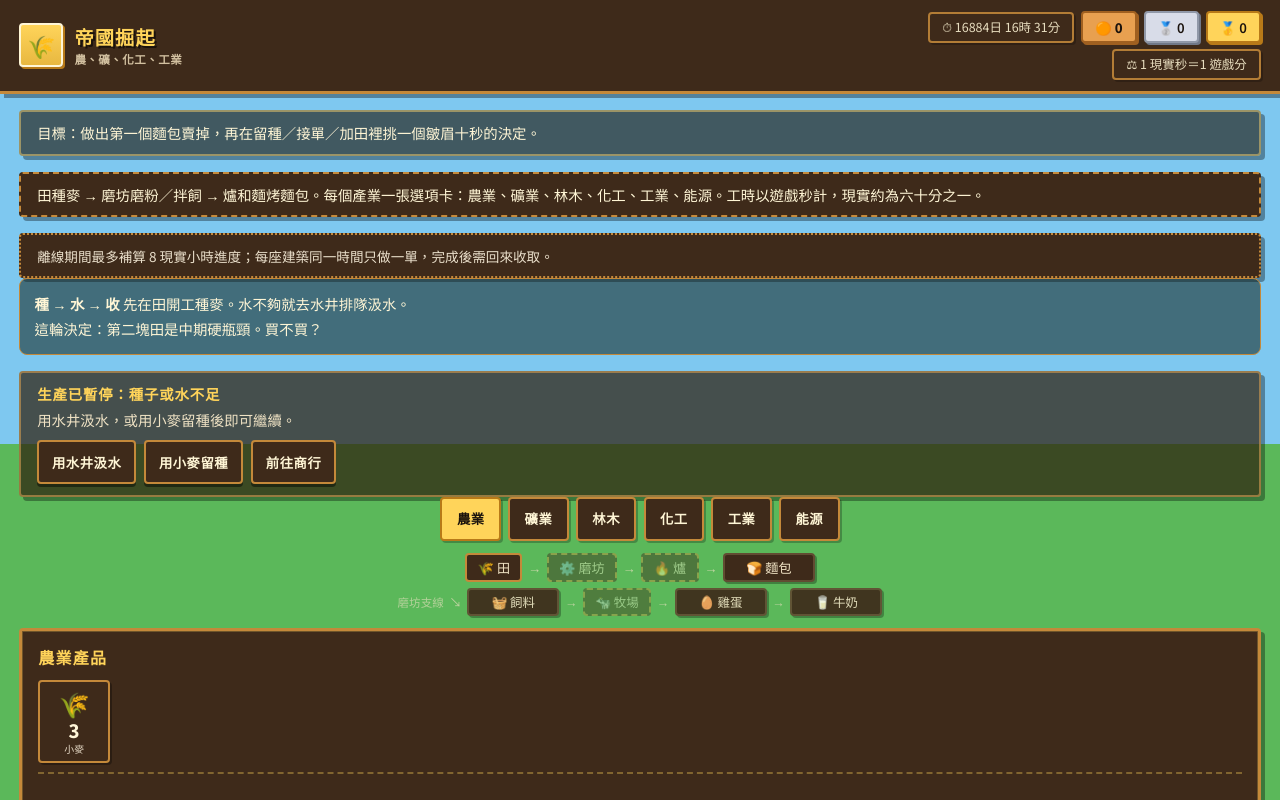
Scenario: industry tabs › gives each industry its own tab and hides the others
This screenshot has width=1280, height=800.
Expected: the tab "農業" is shown, [440,497,501,541]
Expected: the tab "林木" is shown, [576,497,636,541]
Click the tab "礦業".
click(538, 519)  # box [508,497,569,541]
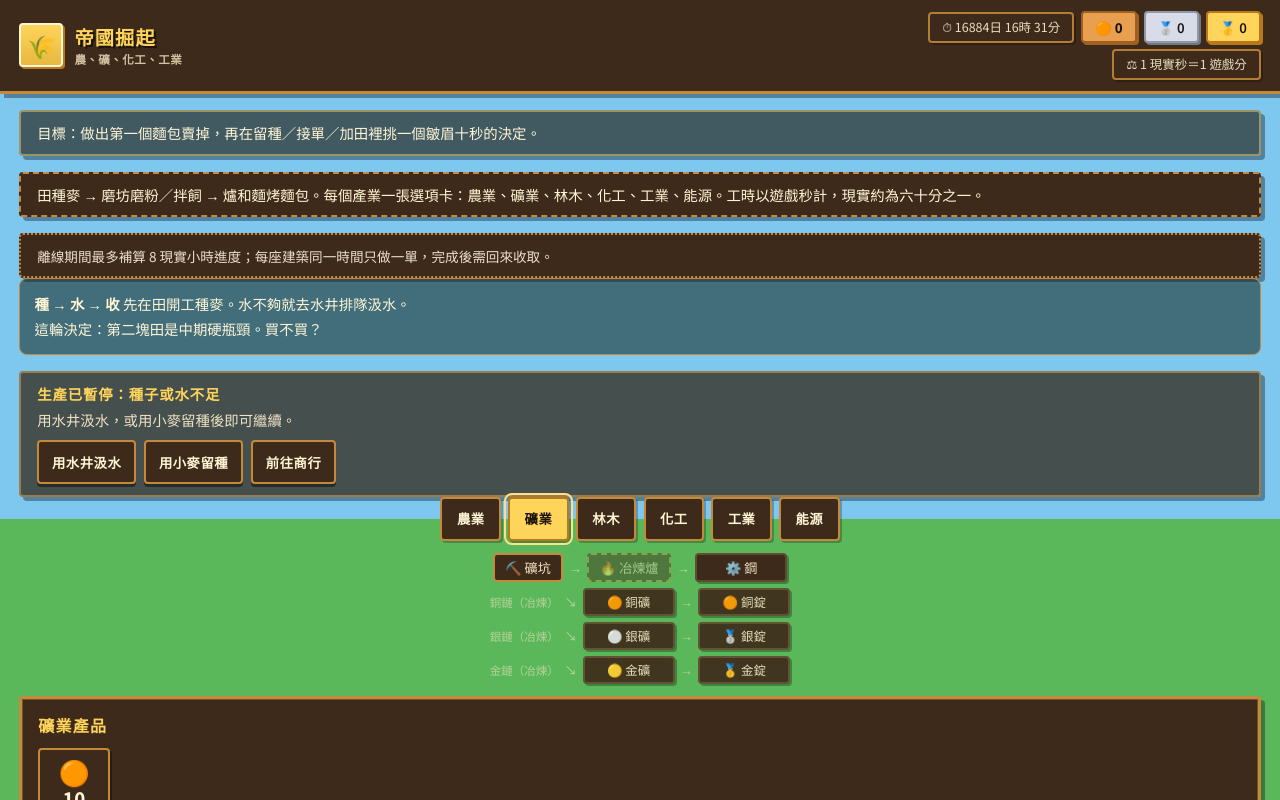
Result: the heading "礦業產品" is shown at [38,717,107,736]
Result: the heading "田" is gone
Result: the text "鋼" is shown at [744,558,757,577]
Click the tab "林木".
click(606, 519)  # box [576,497,636,541]
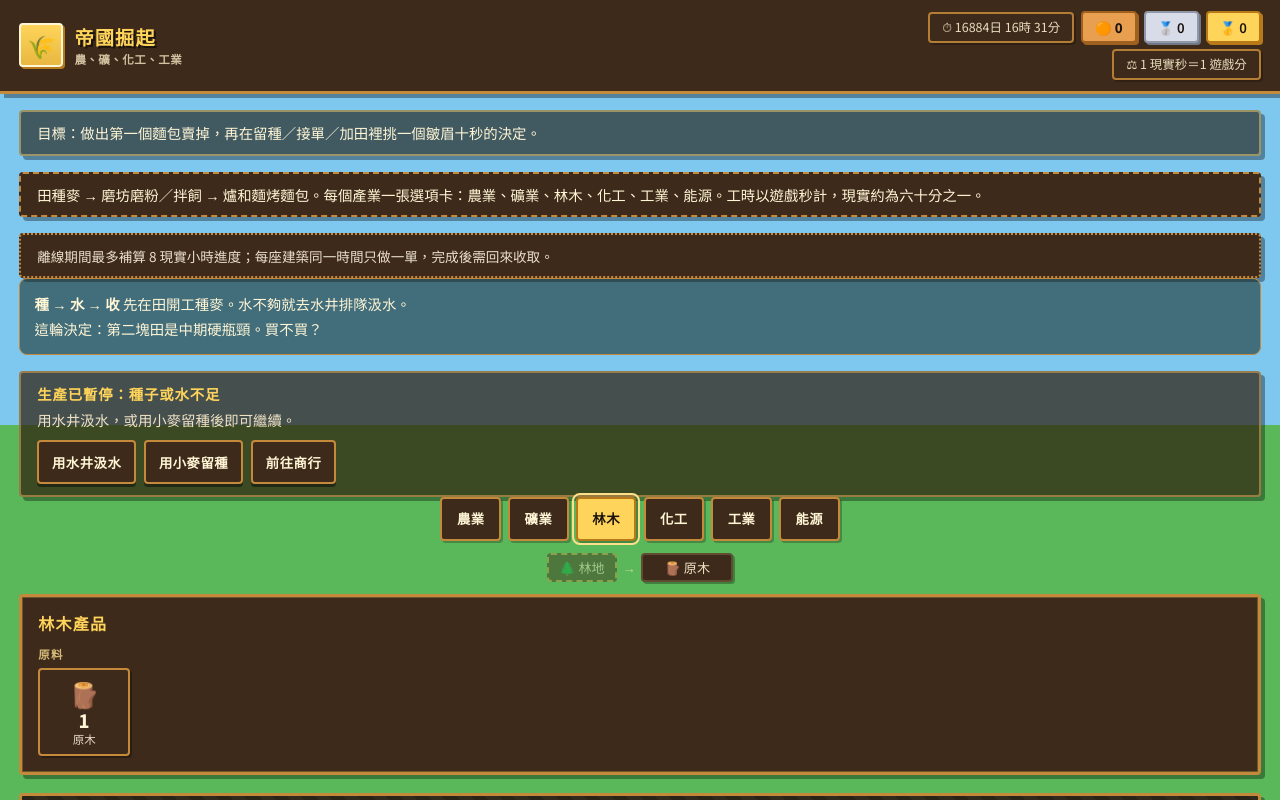
Expected: the heading "田" is not shown
Result: the heading "礦坑" is gone
Result: the element named "原木 1" is shown at [38,668,130,756]
Click the tab "化工".
click(674, 519)  # box [644,497,704,541]
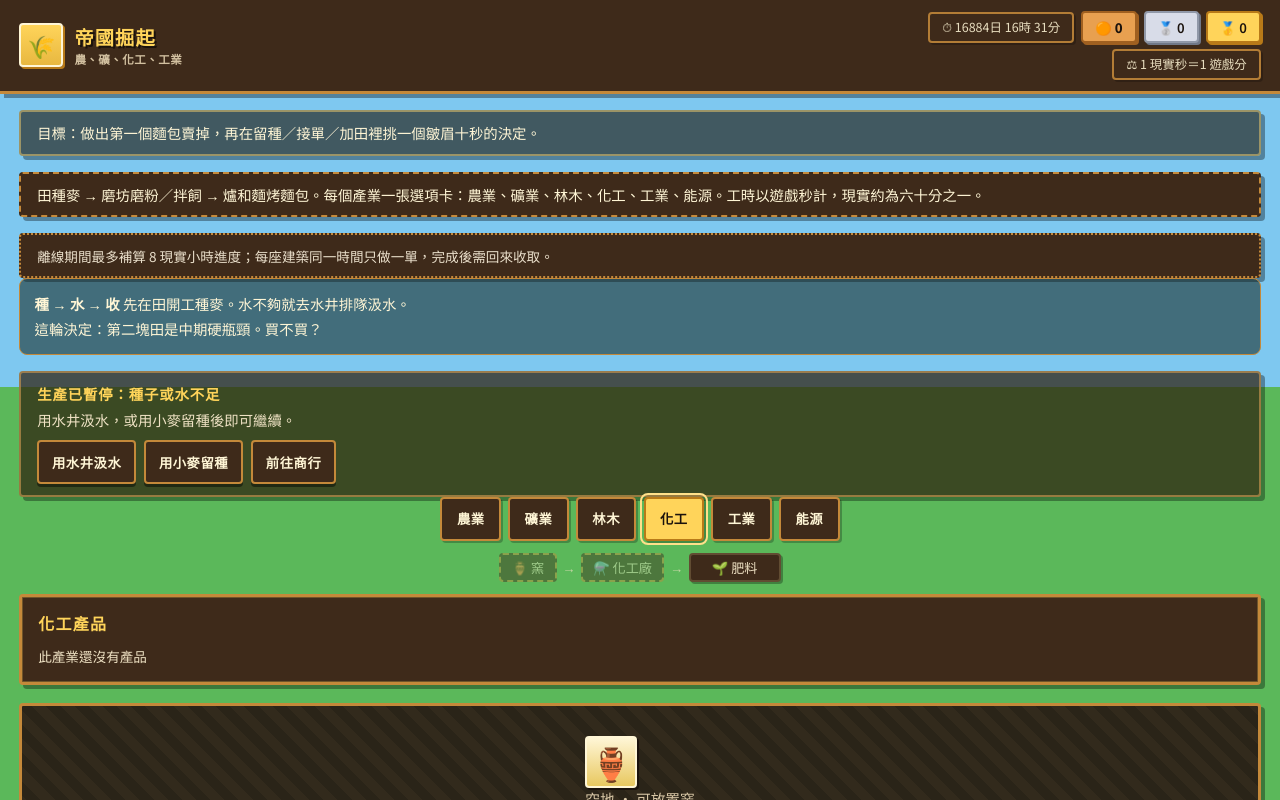
Result: the button "放置林地" is gone
Result: the text "此產業還沒有產品" is shown at [38,646,147,666]
Click the tab "工業".
click(742, 519)  # box [711,497,772,541]
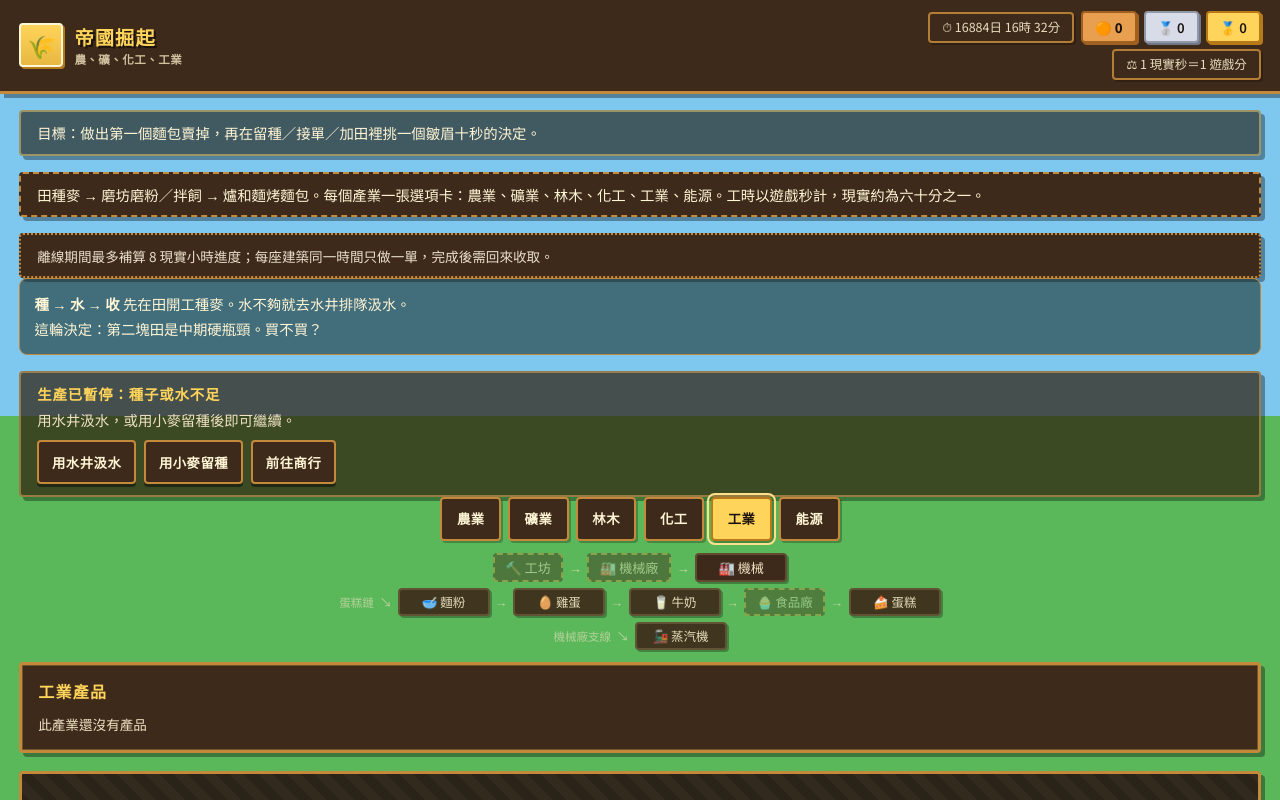
Expected: the text "蒸汽" is not shown
Result: the text "放置窯" is gone
Result: the text "蒸汽機" is shown at [671,627,708,645]
Click the tab "能源".
click(809, 519)  # box [779,497,840,541]
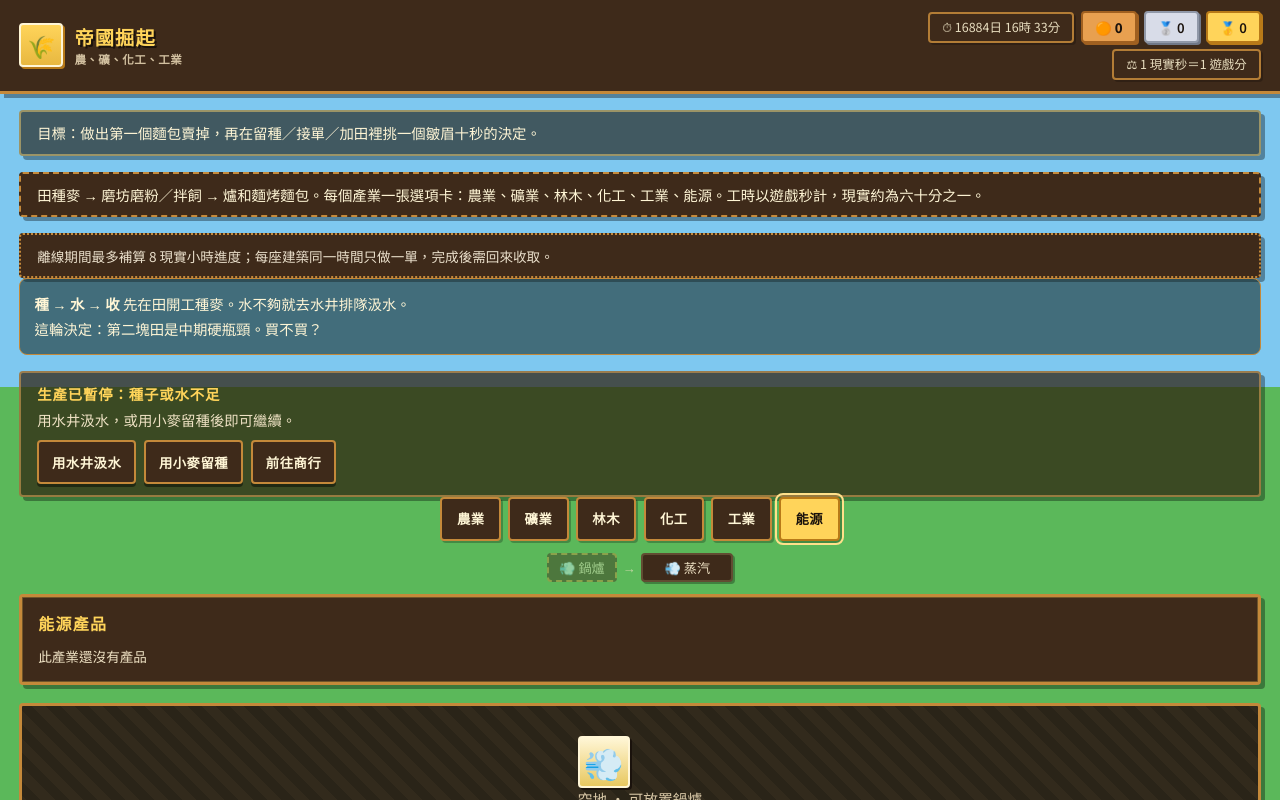
Result: the button "放置工坊" is gone
Result: the text "蒸汽" is shown at [684,558,710,577]
Result: the text "蒸汽機" is gone
